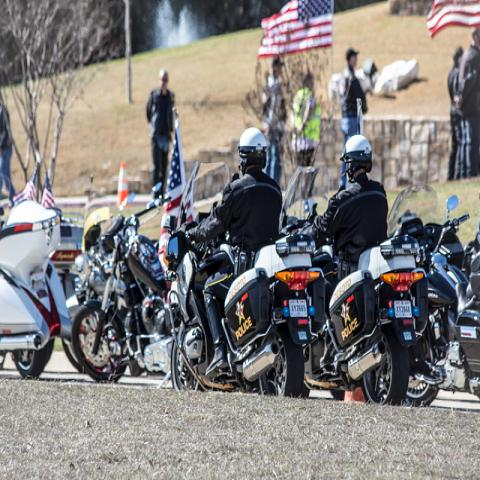motorcycle: (279, 164, 430, 409), (166, 222, 326, 398), (73, 215, 170, 389), (406, 193, 480, 408), (0, 200, 72, 378), (389, 184, 476, 280)
